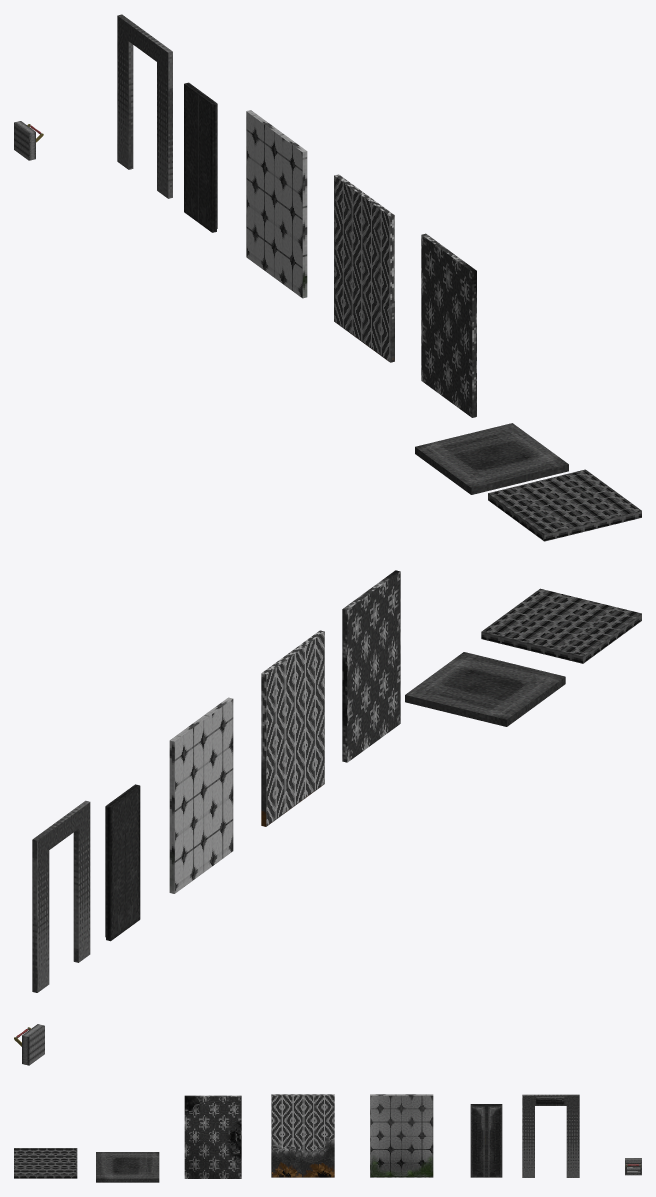
Rendered from lift_123.fbx.
The picture shows the model from 3 angles, top to bottom: view 1: azimuth 30°, elevation 25°; view 2: azimuth 150°, elevation 25°; view 3: azimuth 270°, elevation 25°; orthographic projection. The views are drawn at different scales.
Parts seen in each view (by area): view 1: stenalifta1, stenalifta2, stena_lifta3\, pol, potolok, ramalifta, dver1, dver2; view 2: stenalifta1, stenalifta2, stena_lifta3\, pol, potolok, ramalifta, dver2, dver1, ramarubilnika; view 3: stenalifta1, stenalifta2, stena_lifta3\, ramalifta, pol, potolok, dver1, dver2, ramarubilnika.
Boxes of the visible parts, x1=… form: stenalifta1: x1=246, y1=110, x2=307, y2=298; stenalifta2: x1=334, y1=174, x2=394, y2=362; stena_lifta3\: x1=421, y1=233, x2=476, y2=417; pol: x1=415, y1=423, x2=568, y2=494; potolok: x1=488, y1=469, x2=641, y2=541; ramalifta: x1=117, y1=14, x2=172, y2=198; dver1: x1=198, y1=93, x2=217, y2=232; dver2: x1=184, y1=82, x2=202, y2=222; stenalifta1: x1=169, y1=697, x2=233, y2=893; stenalifta2: x1=261, y1=630, x2=324, y2=826; stena_lifta3\: x1=342, y1=570, x2=400, y2=762; pol: x1=405, y1=652, x2=565, y2=726; potolok: x1=481, y1=588, x2=641, y2=663; ramalifta: x1=32, y1=800, x2=90, y2=992; dver2: x1=105, y1=795, x2=125, y2=941; dver1: x1=121, y1=784, x2=140, y2=930; ramarubilnika: x1=22, y1=1024, x2=44, y2=1065; stenalifta1: x1=370, y1=1094, x2=433, y2=1177; stenalifta2: x1=271, y1=1094, x2=334, y2=1177; stena_lifta3\: x1=184, y1=1095, x2=241, y2=1178; ramalifta: x1=522, y1=1094, x2=579, y2=1177; pol: x1=96, y1=1152, x2=159, y2=1182; potolok: x1=14, y1=1148, x2=77, y2=1178; dver1: x1=470, y1=1104, x2=486, y2=1177; dver2: x1=486, y1=1104, x2=502, y2=1177; ramarubilnika: x1=625, y1=1158, x2=641, y2=1175.
Bounding box in the file's own units: 200 × 320 × 1984.
